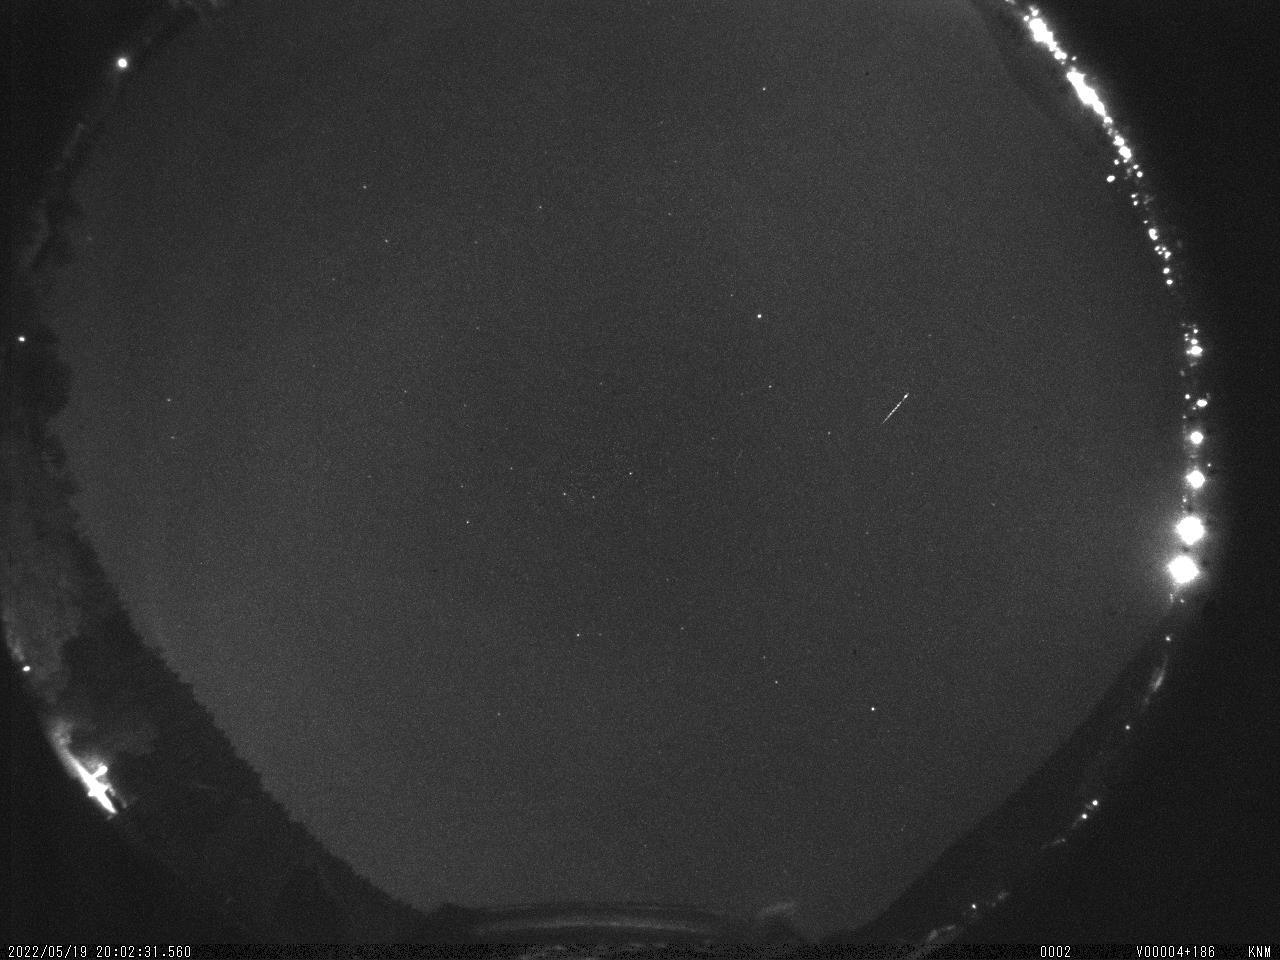Meteor: (874, 388, 914, 432)
